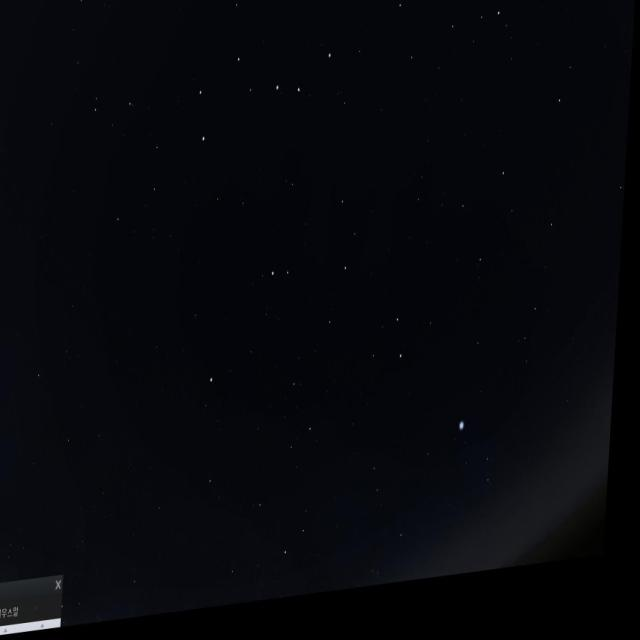lyra: (454, 413, 512, 513)
ursa_major: (193, 34, 339, 163)
